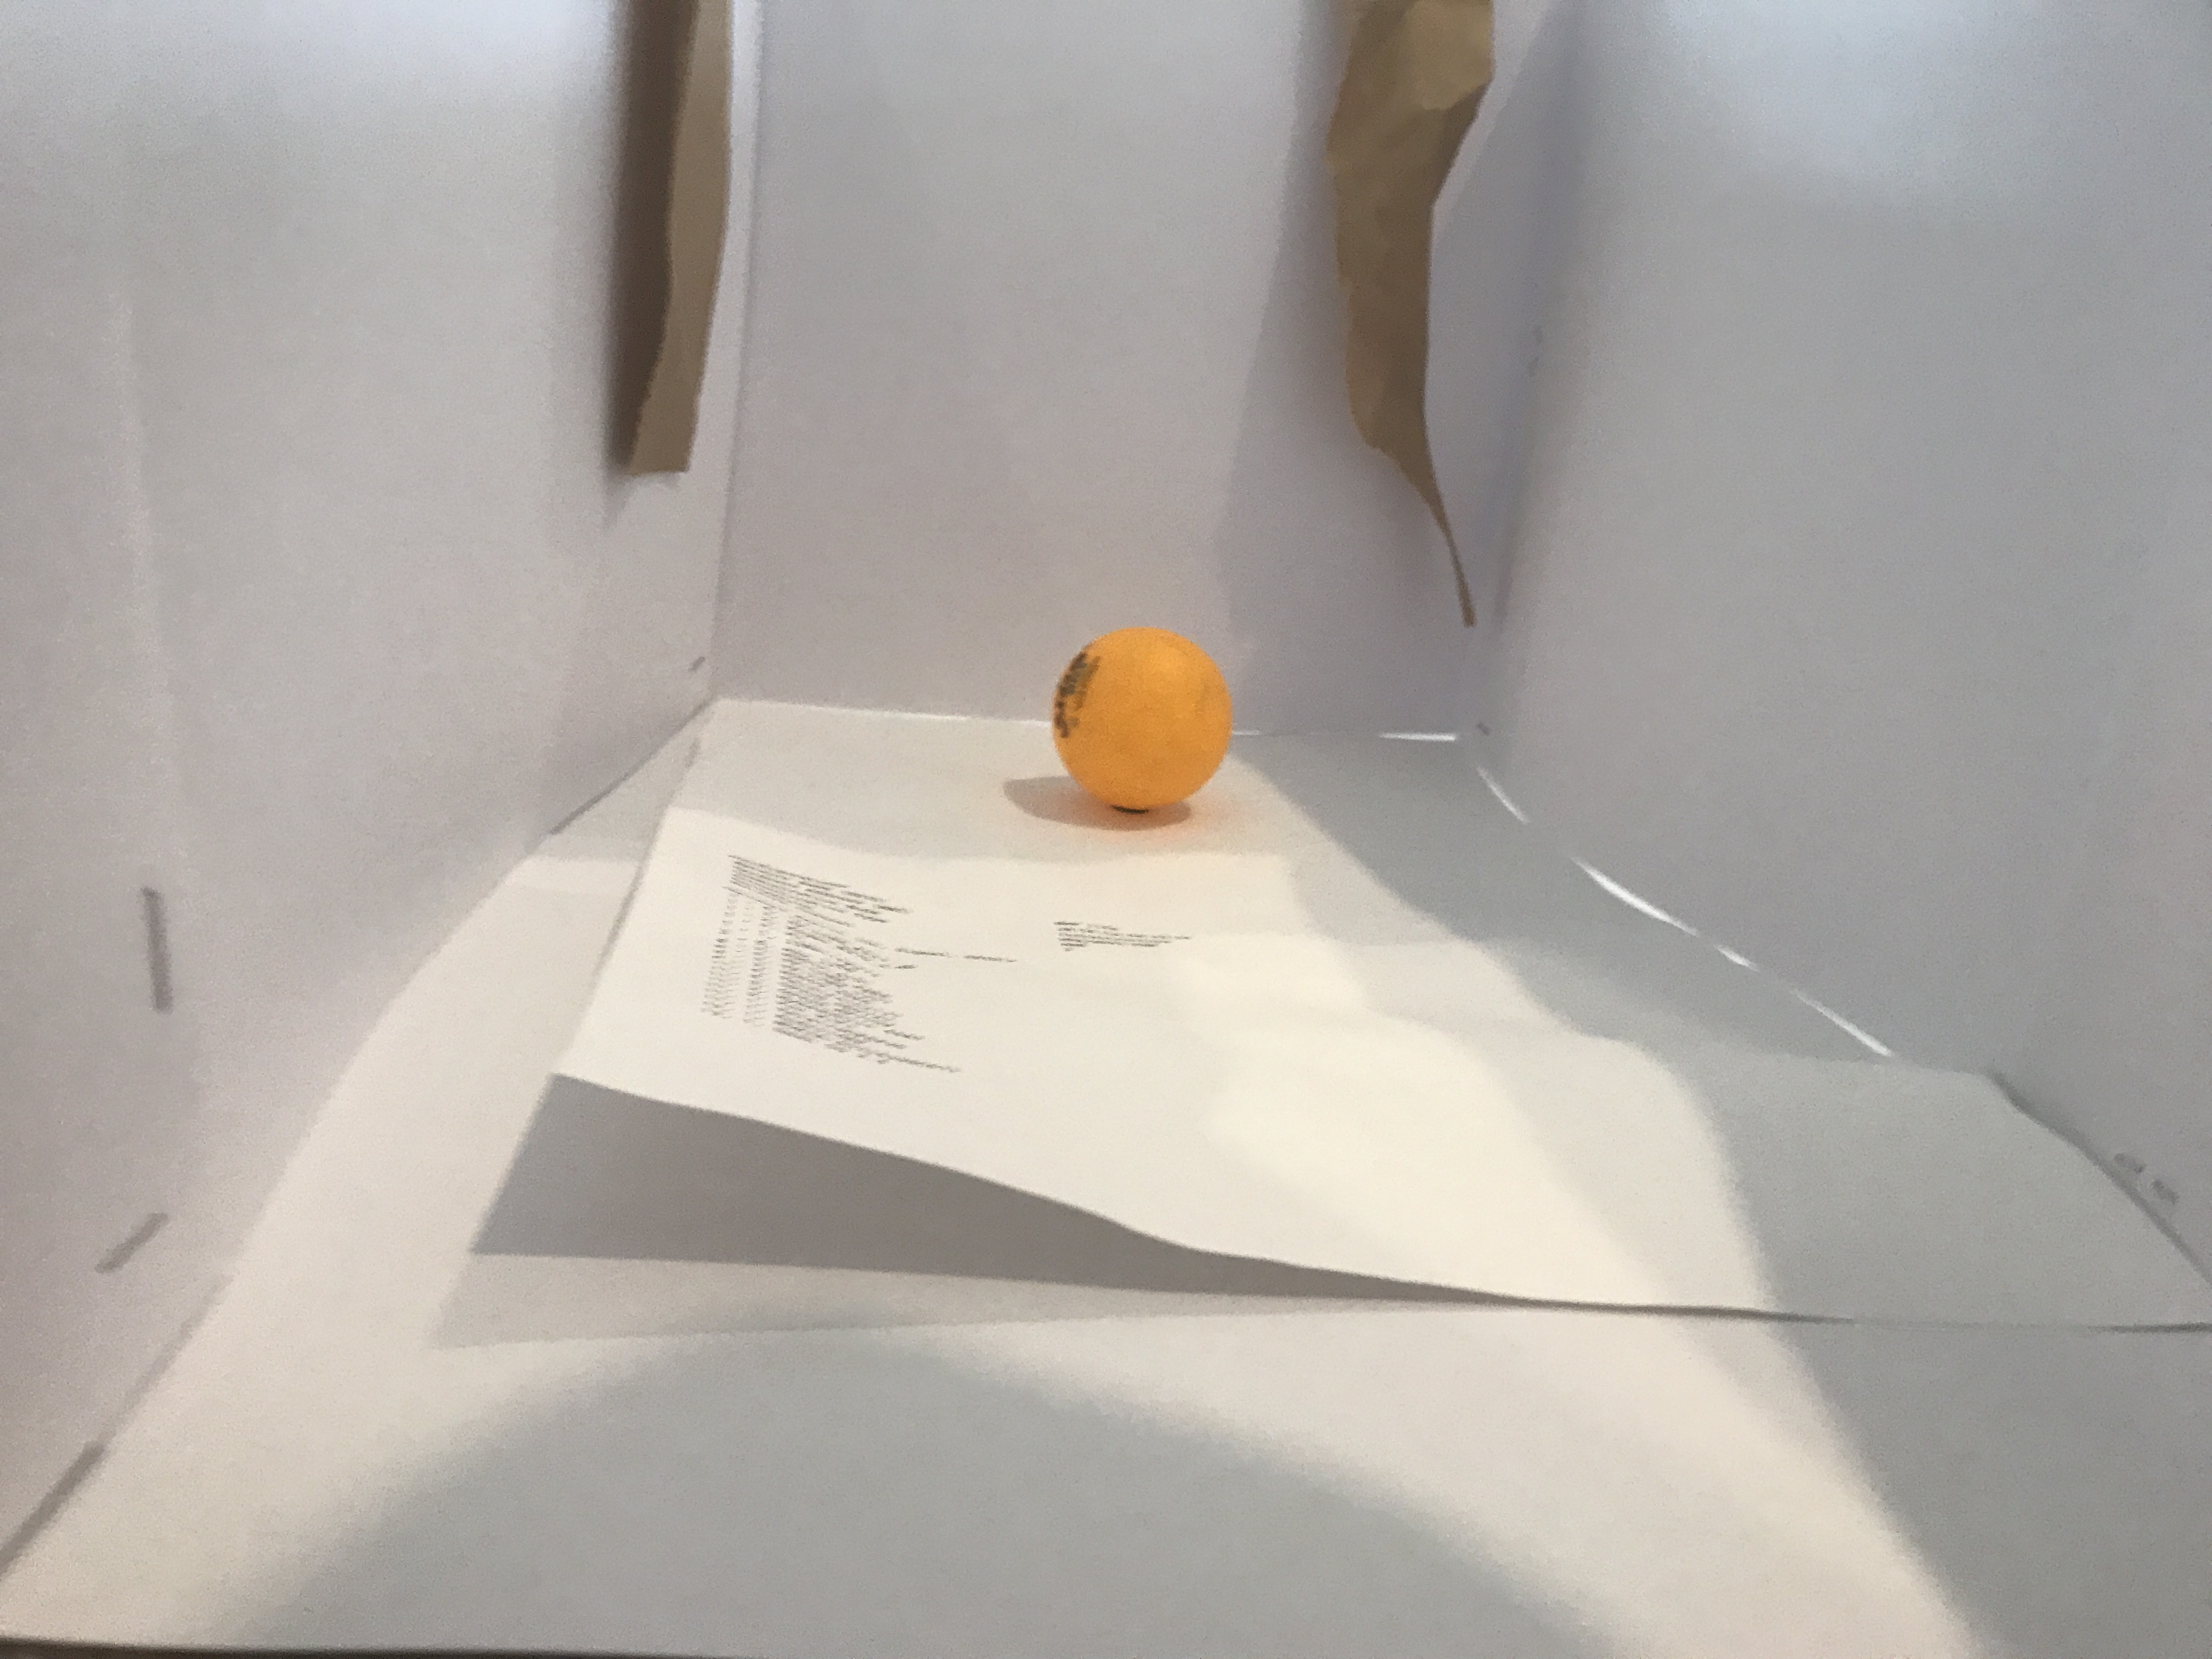pp: (1055, 629, 1235, 814)
